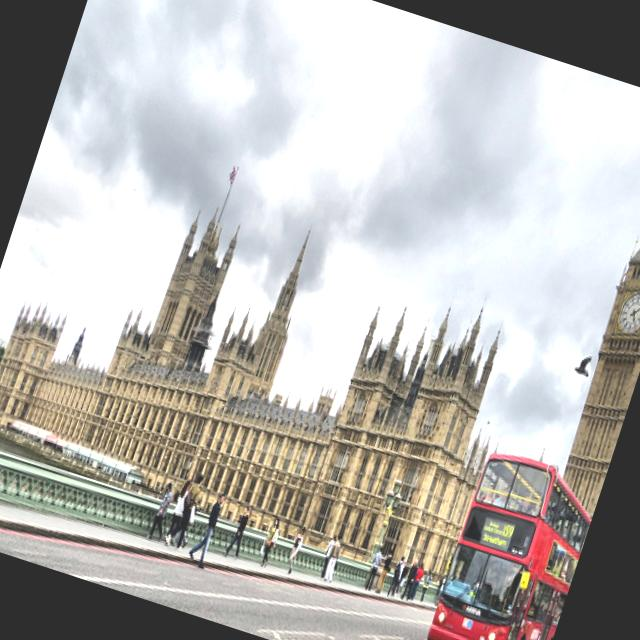Vehicle: (424, 447, 603, 640)
